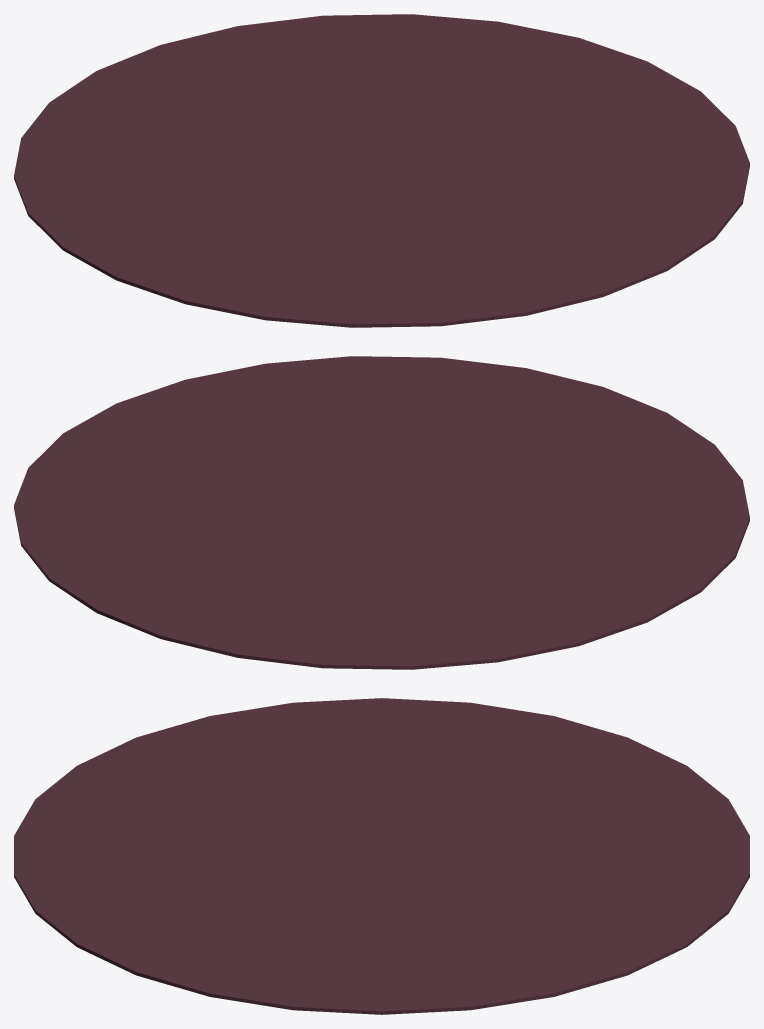
The model's file is Rug.fbx.
The picture shows the model from 3 angles, top to bottom: view 1: azimuth 30°, elevation 25°; view 2: azimuth 150°, elevation 25°; view 3: azimuth 270°, elevation 25°; orthographic projection.
Visible parts, largest first — view 1: Rug; view 2: Rug; view 3: Rug.
Boxes of the visible parts, x1,y1,x2,y2 form: Rug: [14, 14, 749, 327]; Rug: [14, 356, 749, 669]; Rug: [14, 698, 749, 1014].
Bounding box in the file's own units: 70.18 × 0.3556 × 69.67.
